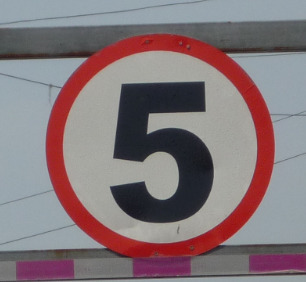speed_limit_5: (45, 33, 274, 258)
